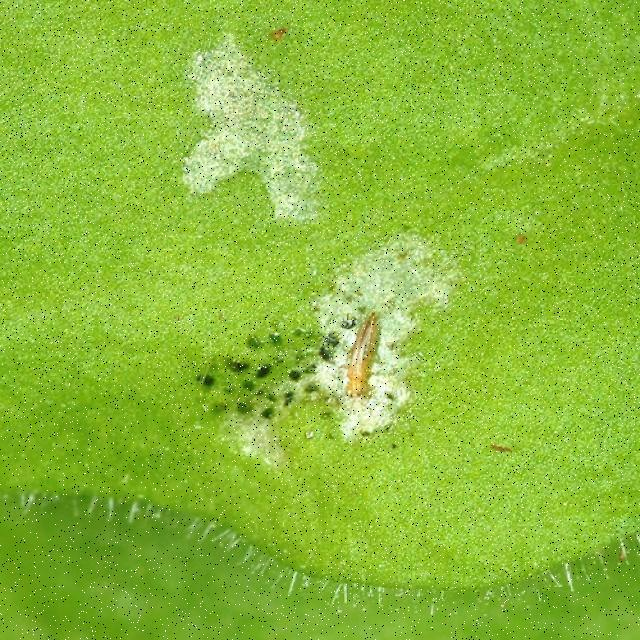Thrips: (164, 293, 407, 411)
